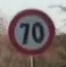limite 70: (6, 7, 55, 54)
